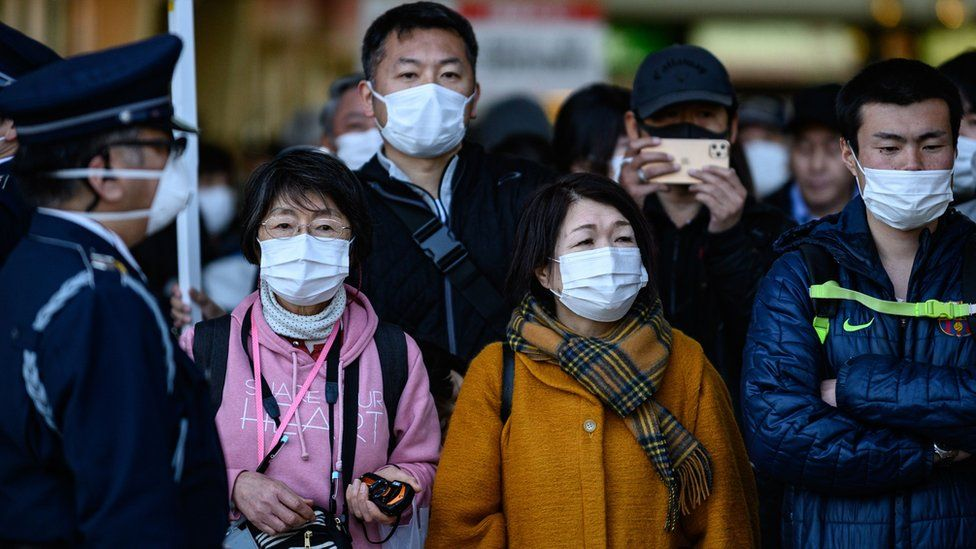with_incorrect_mask: (876, 120, 939, 206)
with_mask: (130, 113, 190, 234), (388, 57, 466, 132), (269, 199, 335, 281), (571, 220, 638, 293), (648, 94, 719, 158)
